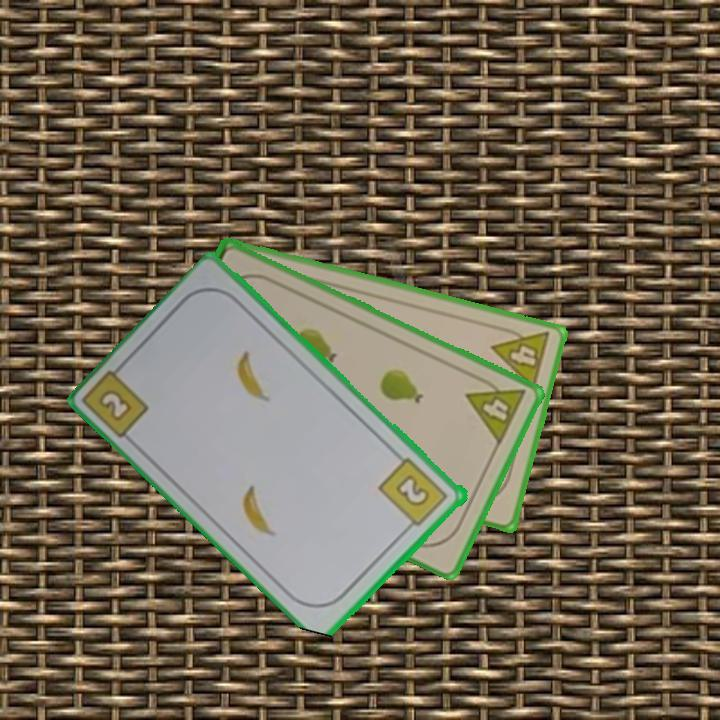2b: (375, 454, 451, 535), (99, 389, 136, 425)
4p: (462, 370, 529, 448), (488, 321, 553, 393)
